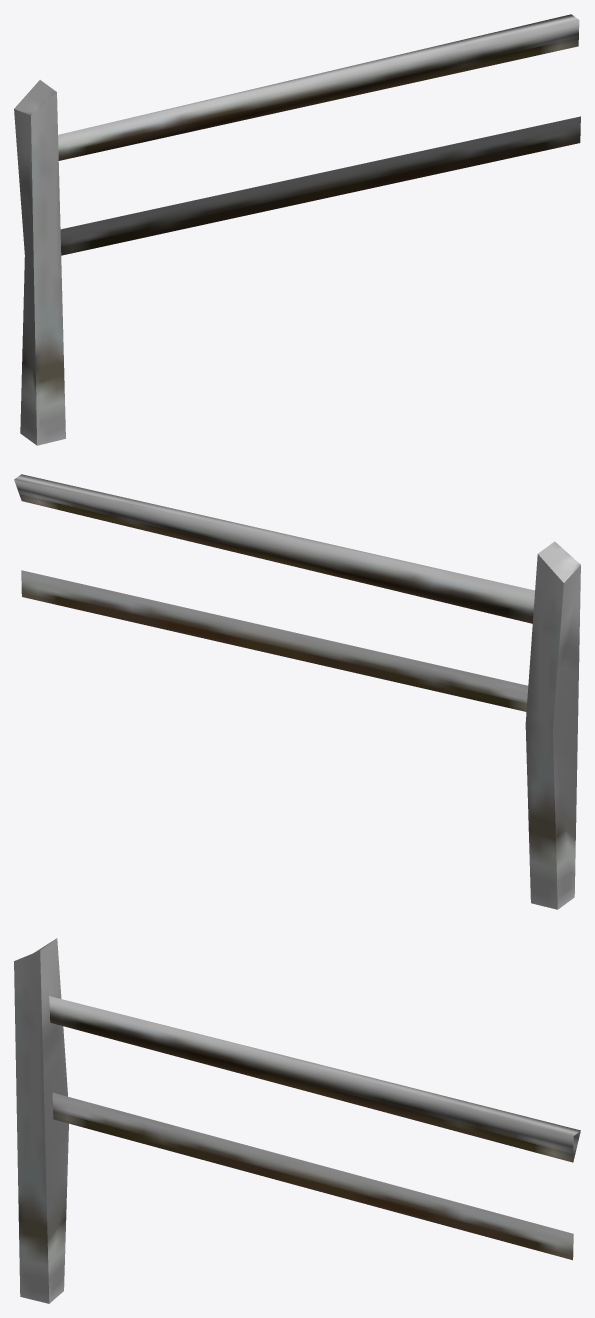
The model's file is general_obj_fence03_lod_01.fbx.
3 renders of one model, top to bottom at view 1: azimuth 30°, elevation 25°; view 2: azimuth 150°, elevation 25°; view 3: azimuth 330°, elevation 25°, orthographic.
Parts seen in each view (by area): view 1: Sphere01; view 2: Sphere01; view 3: Sphere01.
Part boxes in pixels (bbox=[...]): Sphere01: bbox=[14, 14, 580, 445]; Sphere01: bbox=[14, 474, 580, 909]; Sphere01: bbox=[14, 938, 580, 1303].
Bounding box in the file's own units: 3.77 × 2.27 × 0.2005.
